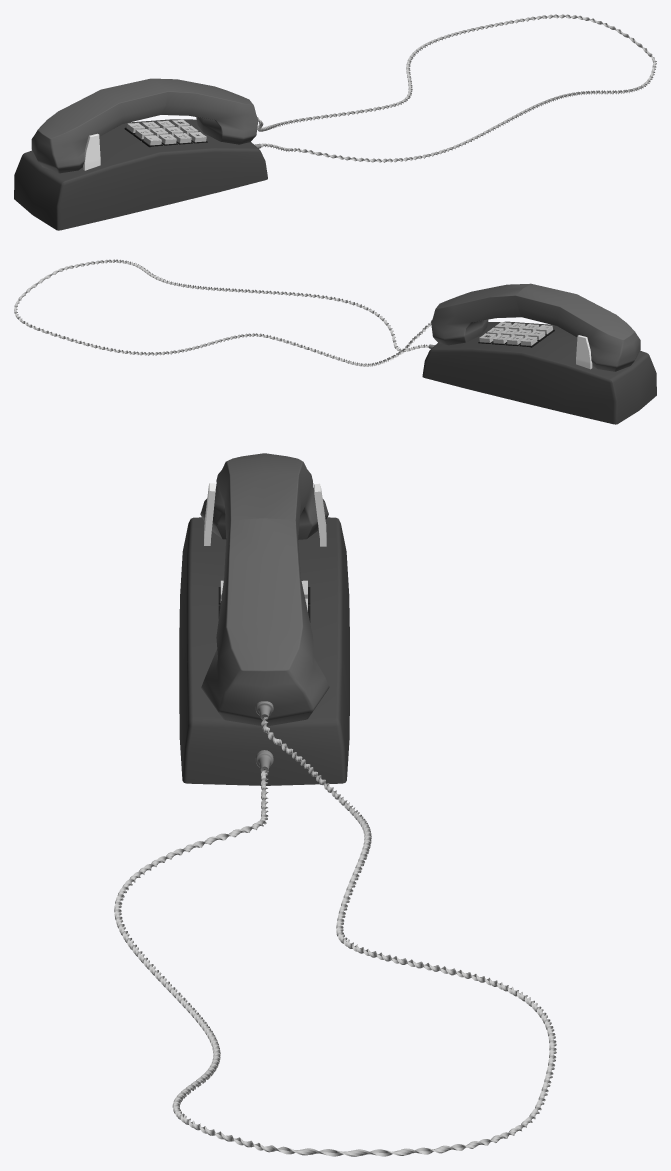
The model's file is Corded_Public_Phone_-_Low_Poly.glb.
3 renders of one model, top to bottom at view 1: azimuth 30°, elevation 25°; view 2: azimuth 150°, elevation 25°; view 3: azimuth 270°, elevation 25°, orthographic. The views are drawn at different scales.
Parts seen in each view (by area): view 1: curve3_Holder_0, curve3_Phone_0, curve3_Cord_0, curve3_Keypad_0, curve3_Holder1_0; view 2: curve3_Holder_0, curve3_Phone_0, curve3_Cord_0, curve3_Keypad_0, curve3_Holder1_0; view 3: curve3_Phone_0, curve3_Holder_0, curve3_Cord_0, curve3_Holder1_0.
Boxes of the visible parts, x1,y1,x2,y2 form: curve3_Holder_0: (14, 119, 267, 230); curve3_Phone_0: (31, 78, 258, 173); curve3_Cord_0: (257, 14, 656, 162); curve3_Keypad_0: (124, 119, 207, 147); curve3_Holder1_0: (83, 133, 100, 170); curve3_Holder_0: (422, 321, 656, 424); curve3_Phone_0: (431, 283, 640, 371); curve3_Cord_0: (14, 259, 431, 366); curve3_Keypad_0: (478, 322, 554, 347); curve3_Holder1_0: (576, 335, 592, 369); curve3_Phone_0: (200, 453, 329, 726); curve3_Holder_0: (179, 517, 349, 785); curve3_Cord_0: (114, 717, 556, 1156); curve3_Holder1_0: (204, 483, 326, 546).
Size of the model in its own units: 11.49 by 1.76 by 3.79.
6 materials, 1 textured.
